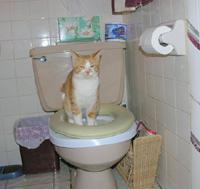Bote de Basura: (13, 114, 66, 176)
Otro Obstaculo: (58, 50, 114, 128)
Sanitario: (31, 45, 138, 188)
